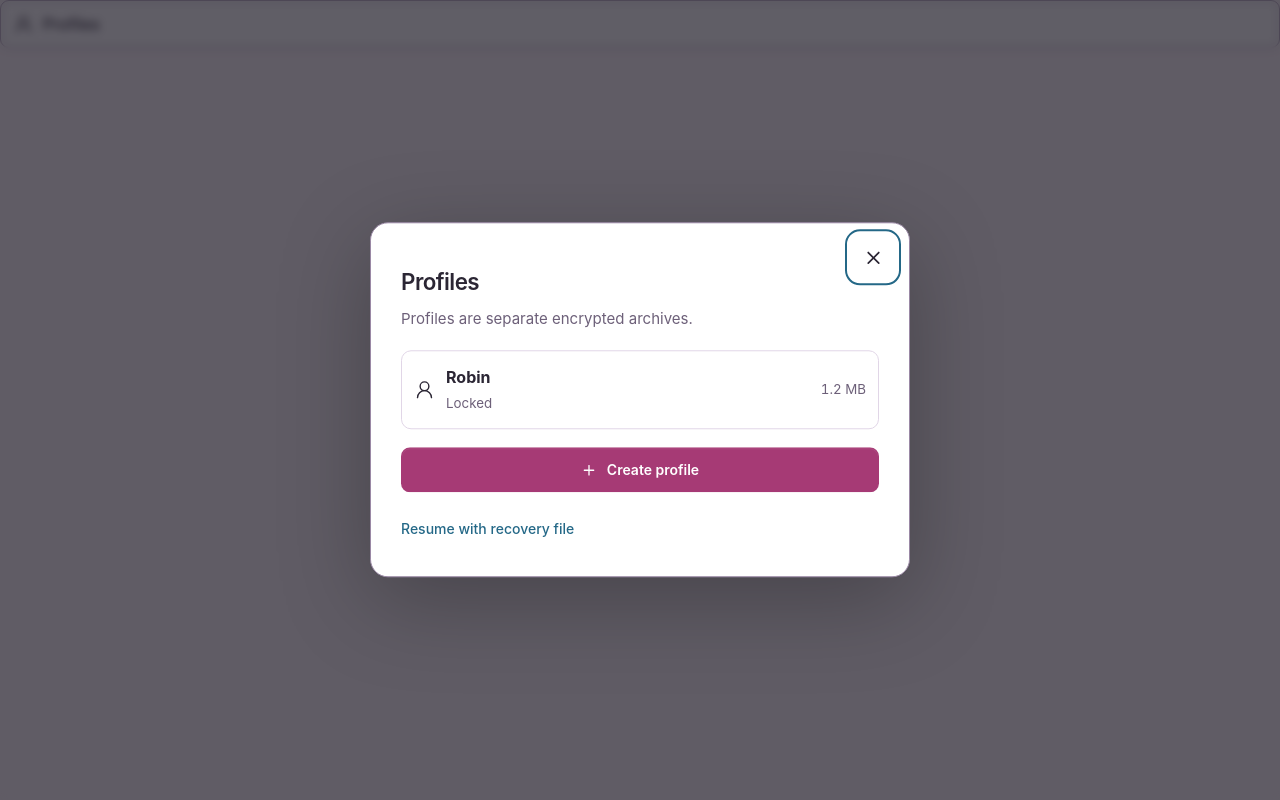
does not select a locked profile and surfaces a wrong recovery error
The image size is (1280, 800).
Click the button named "RobinLocked" at (468, 378), box [407,357,873,424]
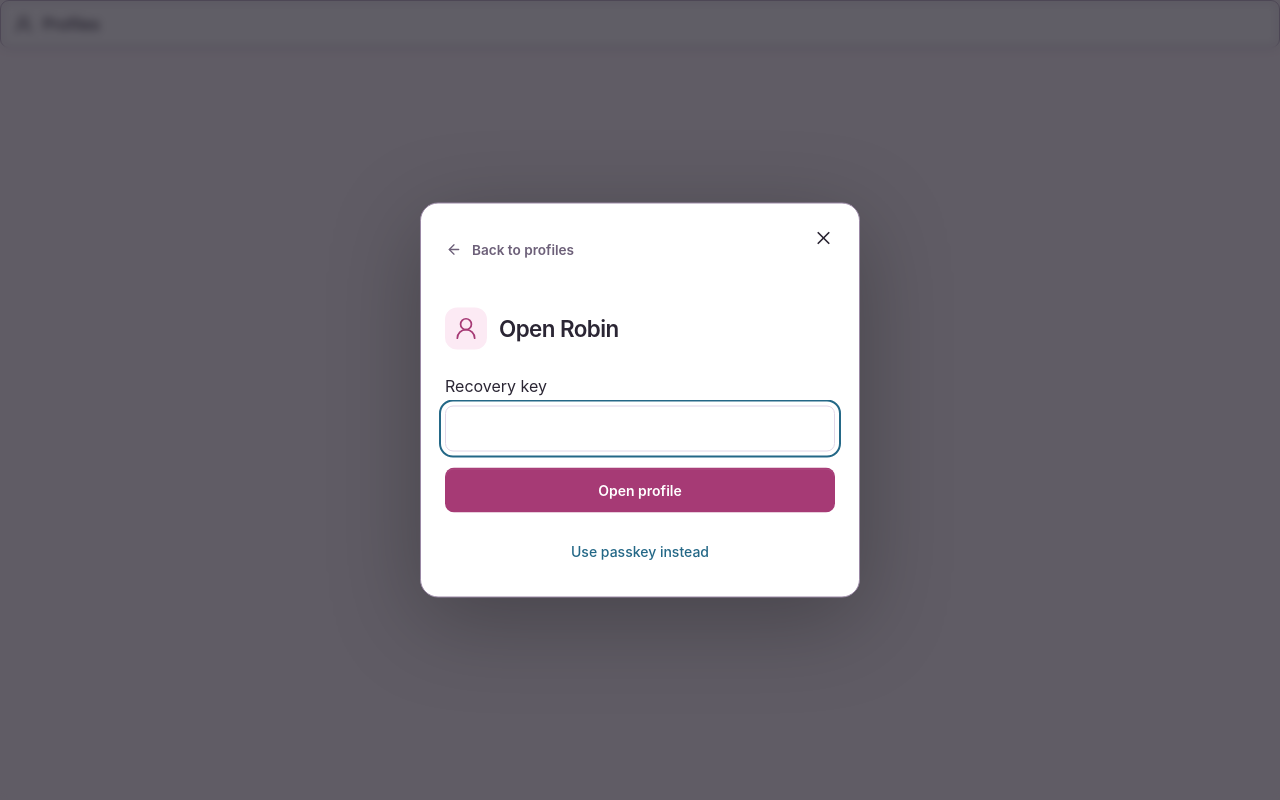
Type "wrong" into the password field labelled "Recovery key" at (640, 428), box [445,406,835,452]
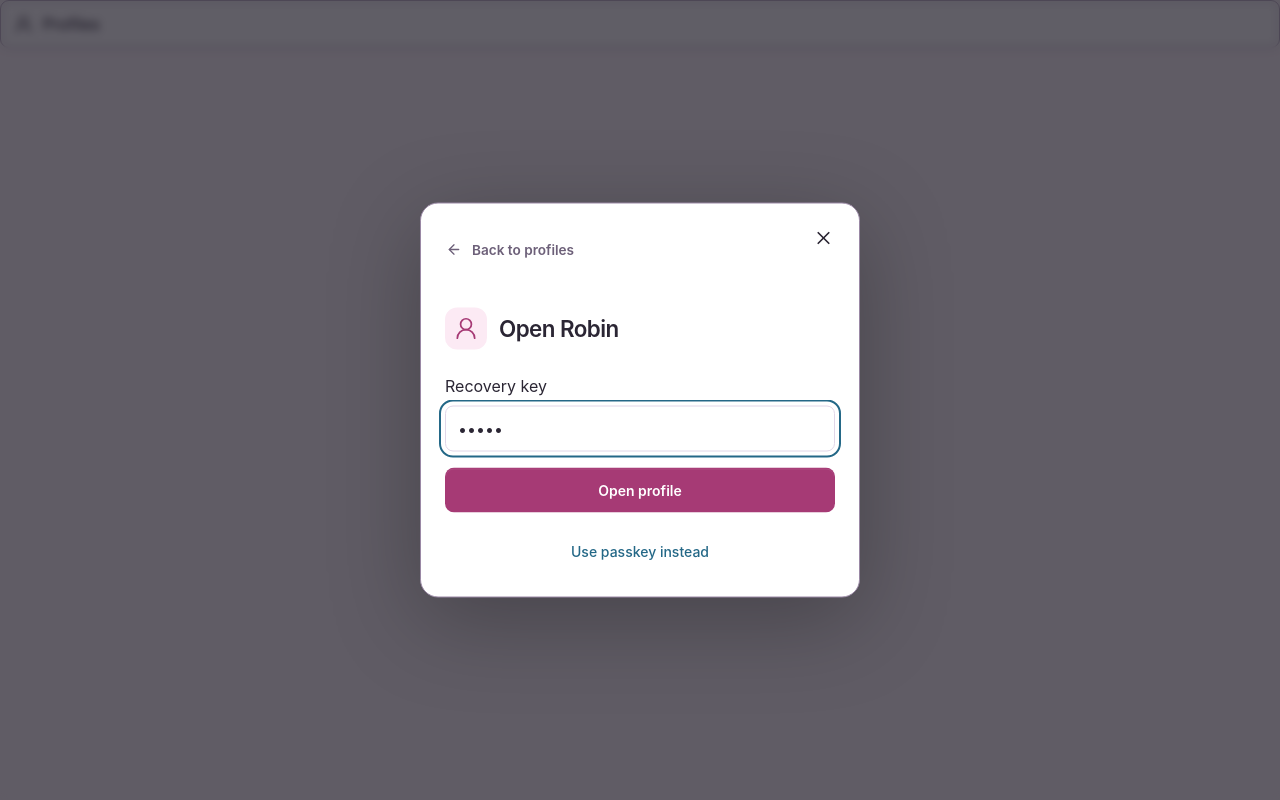
Click the button "Open profile" at (640, 490), box [445,468,835,512]
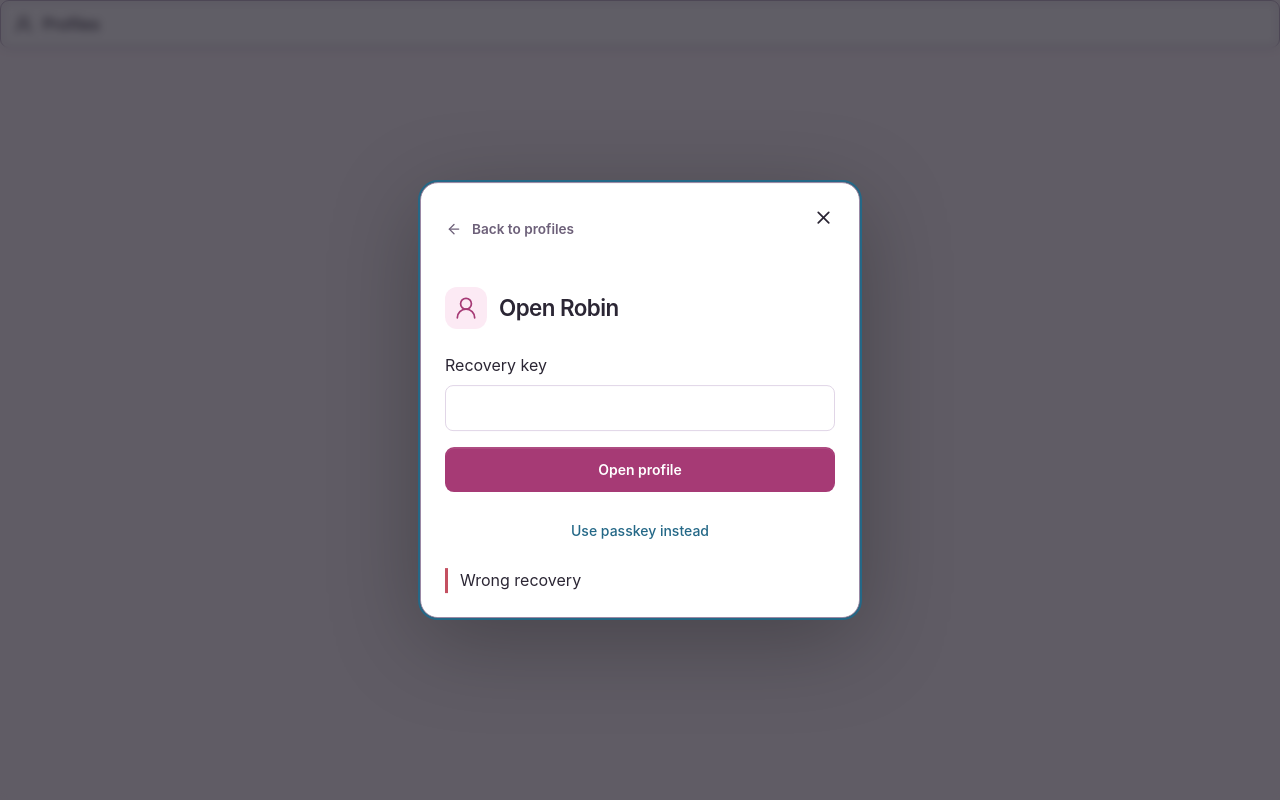
Now the message reads "Wrong recovery", box [460,570,581,590]
Now the password field labelled "Recovery key" is empty, box [445,385,835,431]
